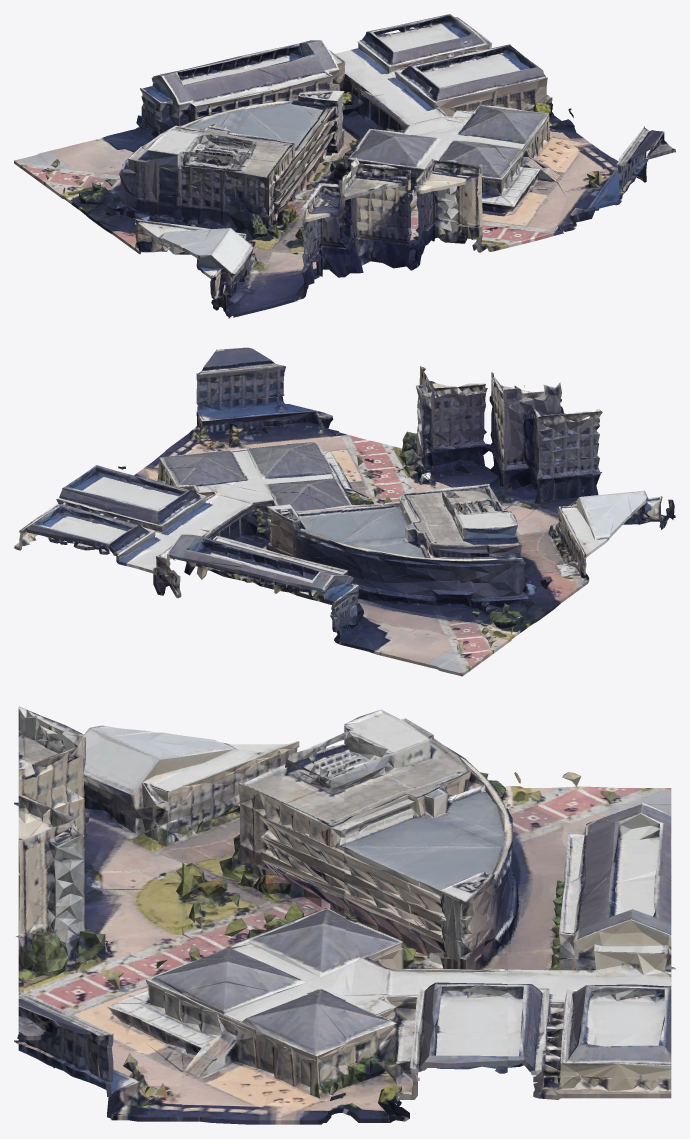
The model's file is Split20.fbx.
3 renders of one model, top to bottom at view 1: azimuth 30°, elevation 25°; view 2: azimuth 150°, elevation 25°; view 3: azimuth 270°, elevation 25°, orthographic. The views are drawn at different scales.
Parts seen in each view (by area): view 1: BuildingMesh-00051; view 2: BuildingMesh-00051; view 3: BuildingMesh-00051.
Boxes of the visible parts, x1,y1,x2,y2 form: BuildingMesh-00051: [14, 14, 675, 318]; BuildingMesh-00051: [14, 347, 675, 676]; BuildingMesh-00051: [14, 706, 675, 1124].
Size of the model in its own units: 196 by 46.27 by 162.
7 materials, 7 textured.
